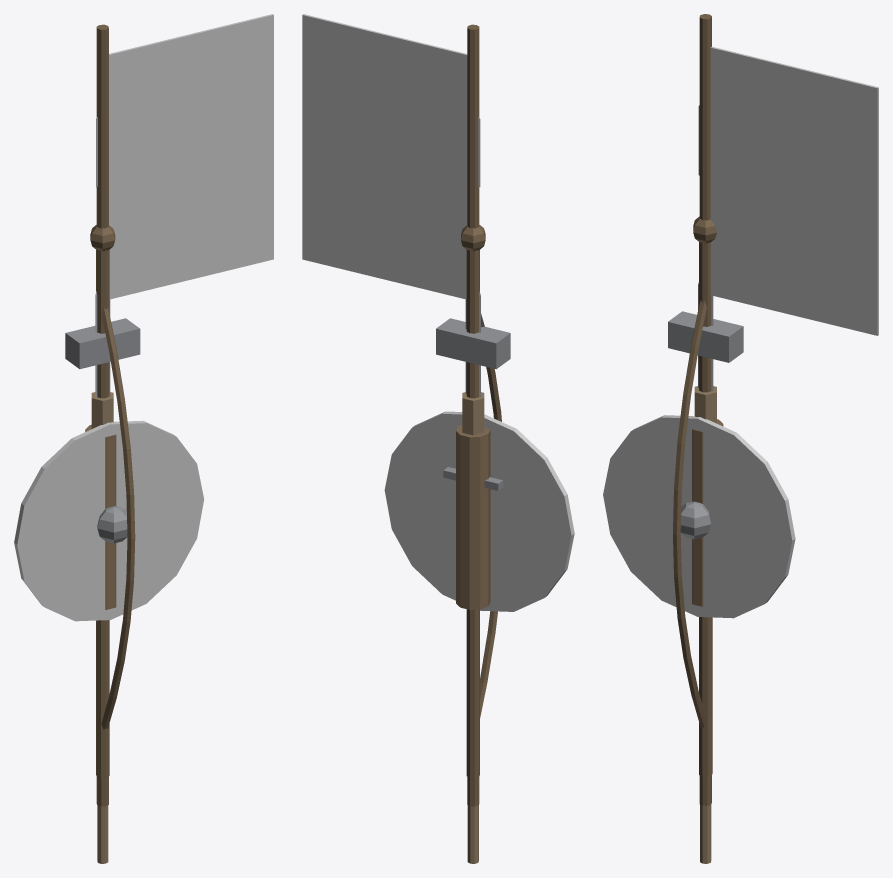
Rendered from gear.glb.
3 renders of one model, left to right at view 1: azimuth 30°, elevation 25°; view 2: azimuth 150°, elevation 25°; view 3: azimuth 330°, elevation 25°, orthographic.
Parts seen in each view (by area): view 1: gear_banner, gear_shield, gear_staff, gear_bow, gear_hammer, gear_quiver, gear_spear; view 2: gear_banner, gear_shield, gear_quiver, gear_staff, gear_hammer, gear_bow, gear_spear, gear_sword; view 3: gear_banner, gear_shield, gear_staff, gear_bow, gear_hammer, gear_quiver, gear_spear.
Boxes of the visible parts, bbox=[...] form: gear_banner: bbox=[96, 14, 273, 806]; gear_shield: bbox=[14, 420, 204, 621]; gear_staff: bbox=[90, 225, 115, 778]; gear_bow: bbox=[101, 307, 135, 729]; gear_hammer: bbox=[65, 318, 140, 369]; gear_quiver: bbox=[85, 392, 116, 609]; gear_spear: bbox=[96, 117, 108, 863]; gear_banner: bbox=[302, 14, 479, 806]; gear_shield: bbox=[384, 411, 574, 611]; gear_quiver: bbox=[456, 392, 490, 609]; gear_staff: bbox=[461, 225, 485, 778]; gear_hammer: bbox=[436, 318, 510, 369]; gear_bow: bbox=[480, 313, 501, 717]; gear_spear: bbox=[467, 117, 480, 863]; gear_sword: bbox=[443, 291, 503, 490]; gear_banner: bbox=[699, 14, 878, 805]; gear_shield: bbox=[603, 415, 795, 618]; gear_staff: bbox=[693, 216, 716, 776]; gear_bow: bbox=[673, 300, 706, 727]; gear_hammer: bbox=[668, 311, 743, 362]; gear_quiver: bbox=[692, 386, 723, 606]; gear_spear: bbox=[698, 105, 711, 863].
Bounding box in the file's own units: 0.96 × 2.9 × 0.2444.
